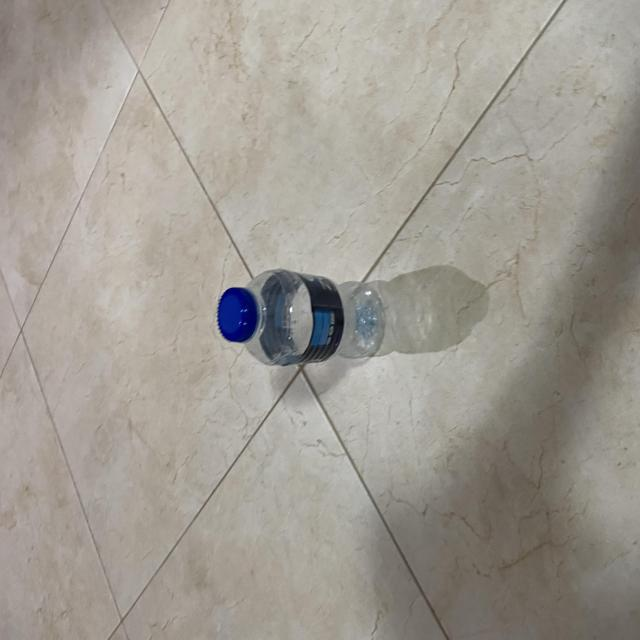plastic: (210, 268, 386, 368)
